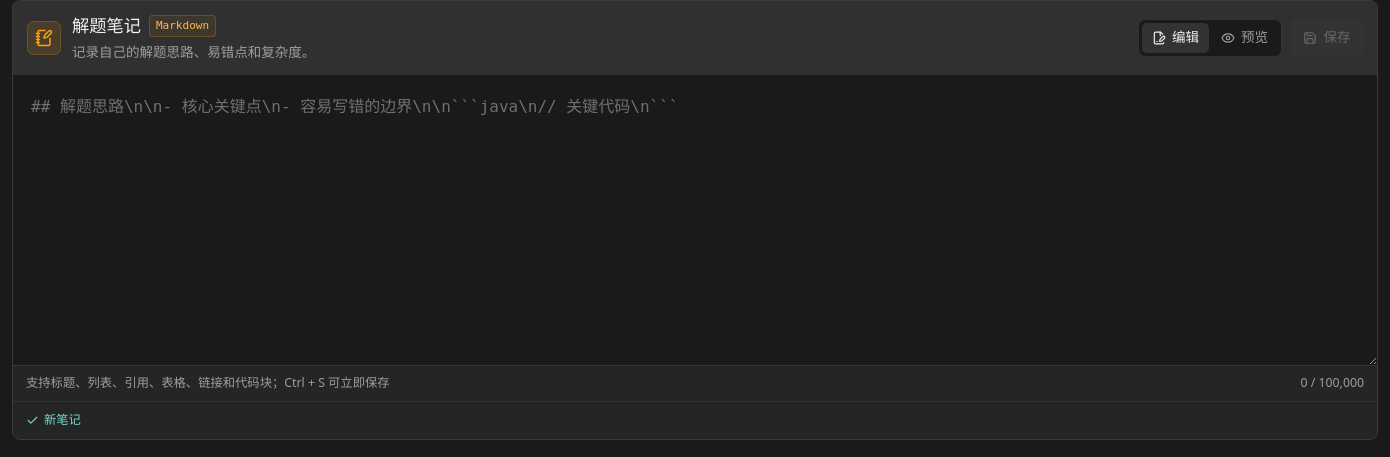
it: ProblemNotePanel › shows save failures and retries the latest draft
Type "易错点" into the text box with placeholder "## 解题思路\\n\\n- 核心关键点\\n- 容易写错的边界\\n\\n```java\\n// 关键代码\\n```" at (695, 220), box top-left (13, 75), bottom-right (1377, 365)
Wait 900 ms
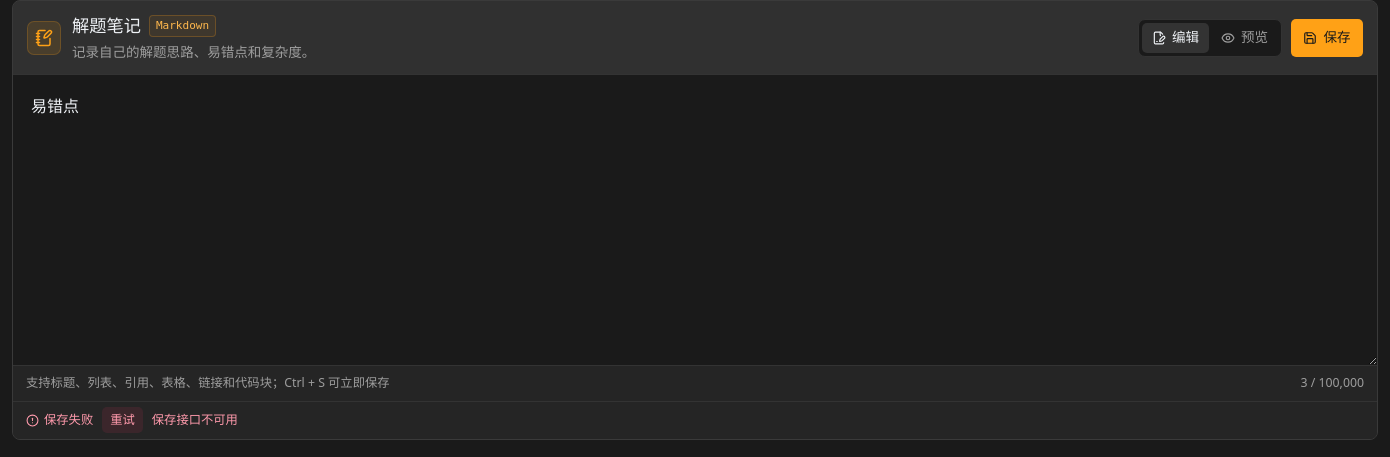
Result: the text "保存失败" is shown at top-left (26, 411), bottom-right (93, 429)
Click the button with class "retry-button" at (122, 420), box top-left (102, 407), bottom-right (143, 433)
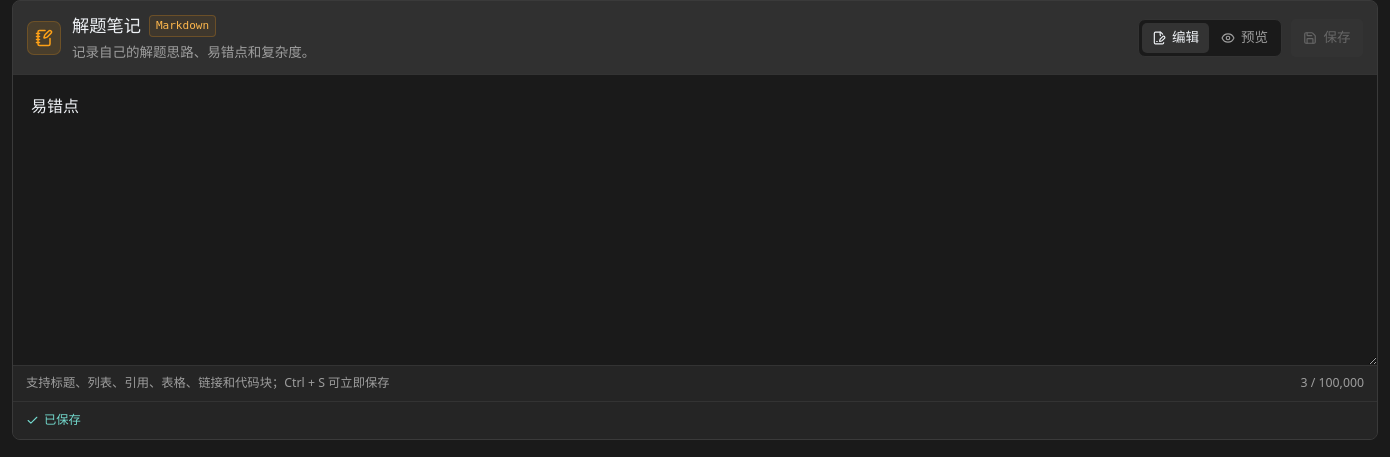
Result: the text "已保存" is shown at top-left (26, 411), bottom-right (81, 429)
